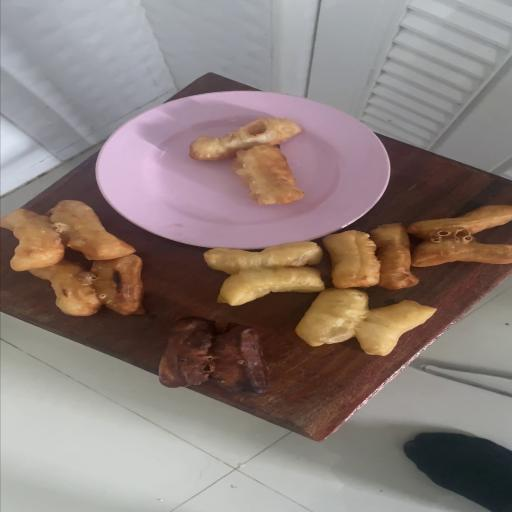street_burnt_defect: (157, 317, 266, 393), (28, 256, 144, 315)
street_golden_good: (204, 241, 324, 305)
